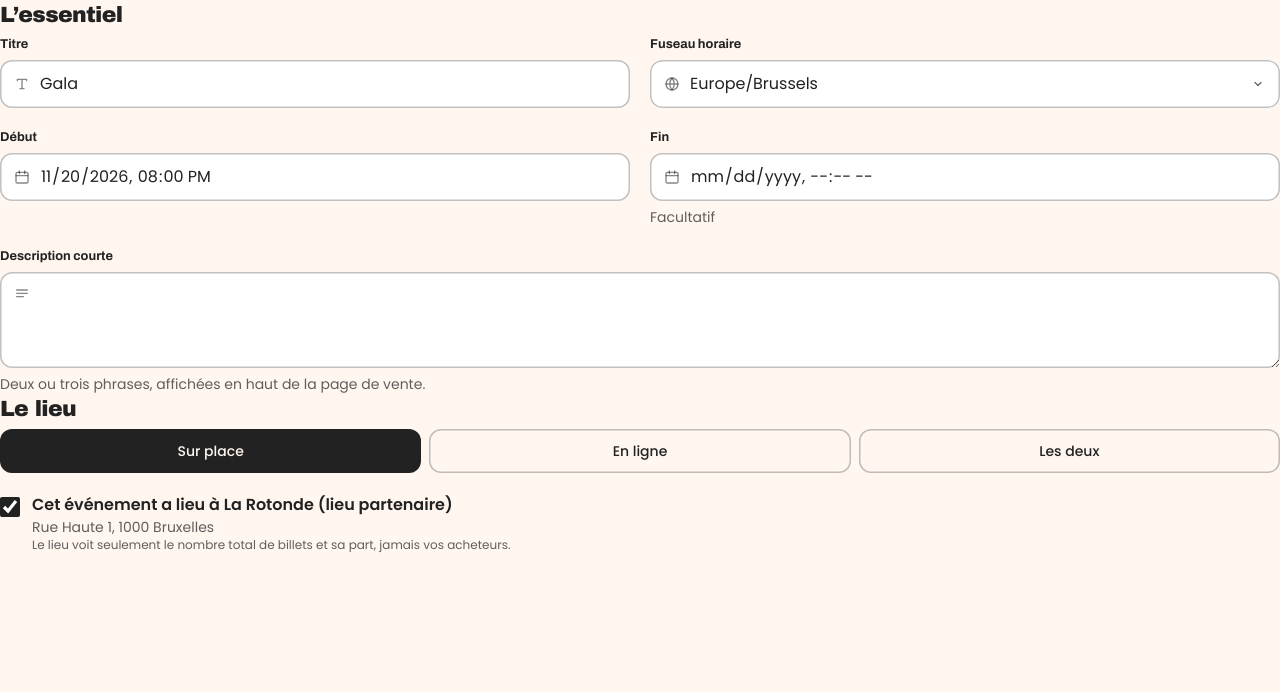
Test: informations d'un événement : champs du lieu (section 9.6) › salle partenaire : case cochée par défaut, son adresse affichée à la place des champs ; décochée : les champs reviennent
Expected: the field labelled "Adresse" is not shown
Click the checkbox at {"x": 10, "y": 507}, box [0, 497, 20, 517]
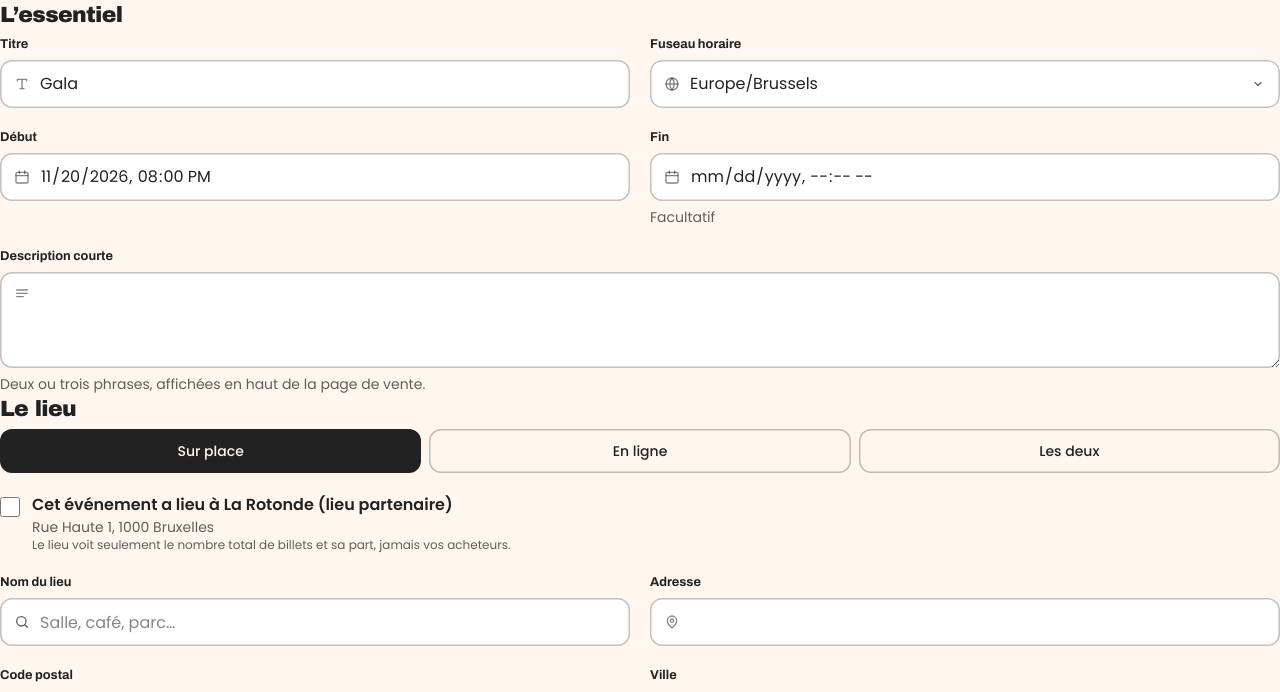
Now the field labelled "Adresse" is shown, box [650, 598, 1279, 646]
